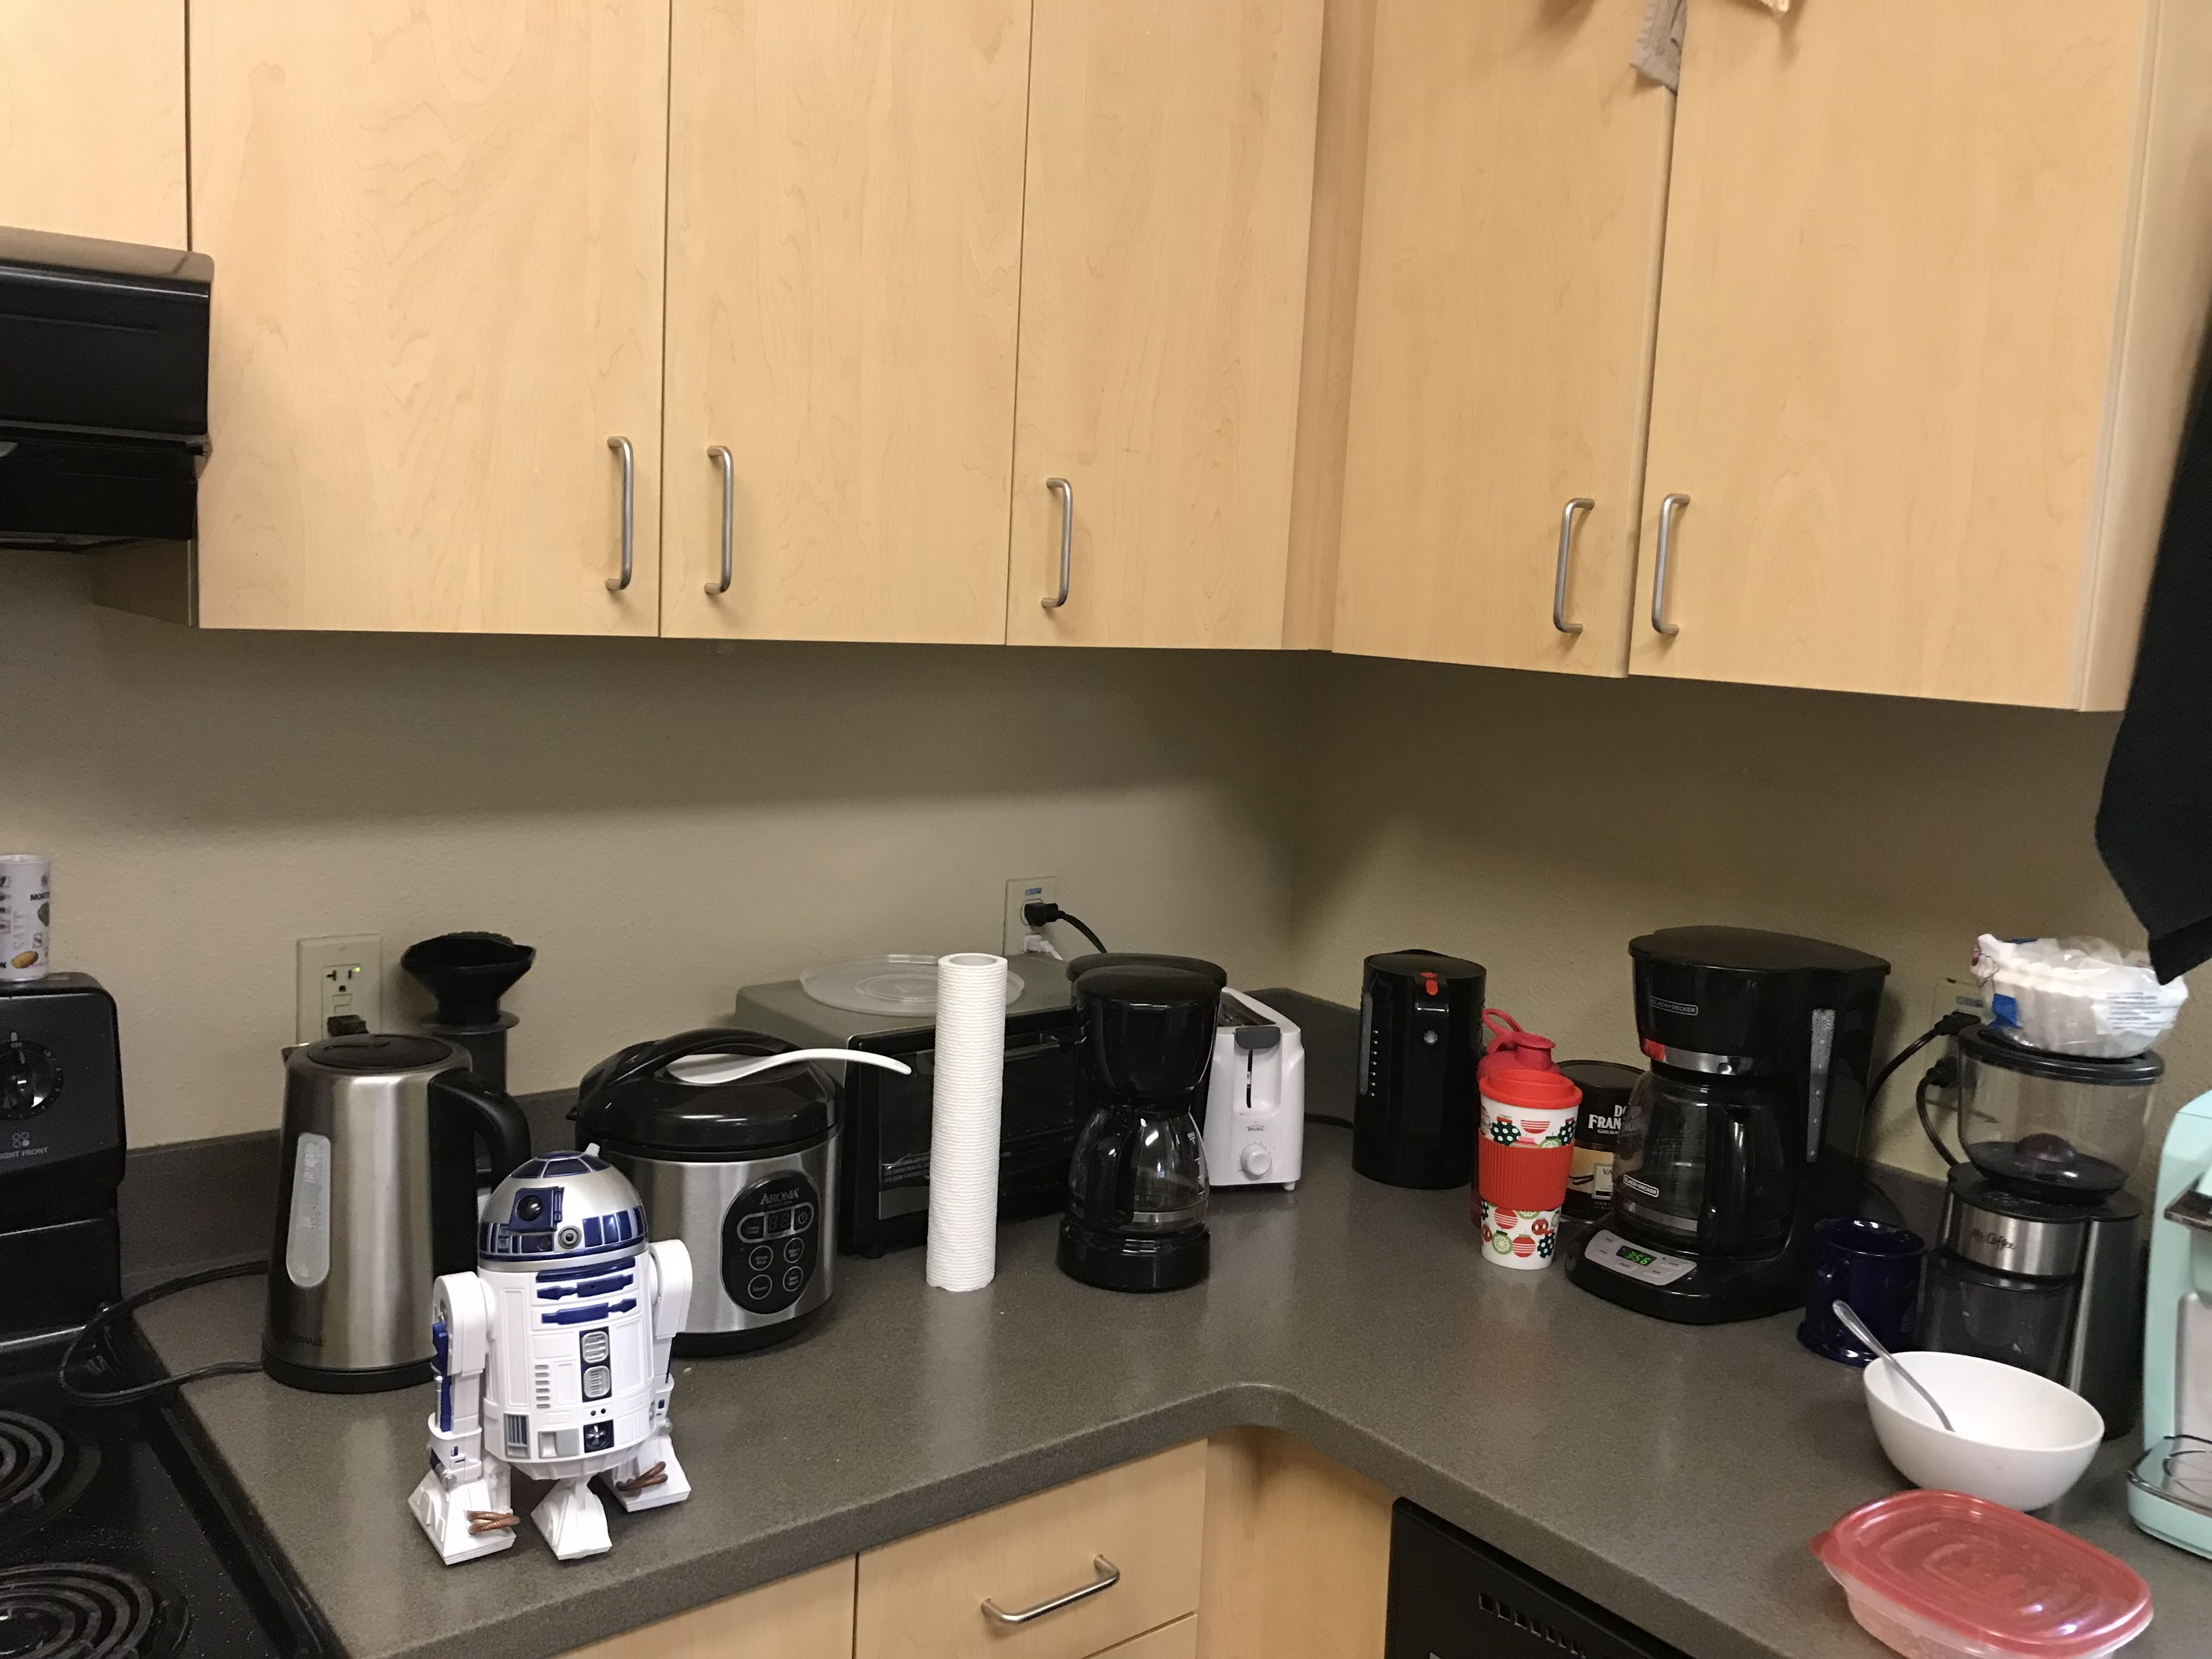r2d2: (409, 1143, 693, 1568)
